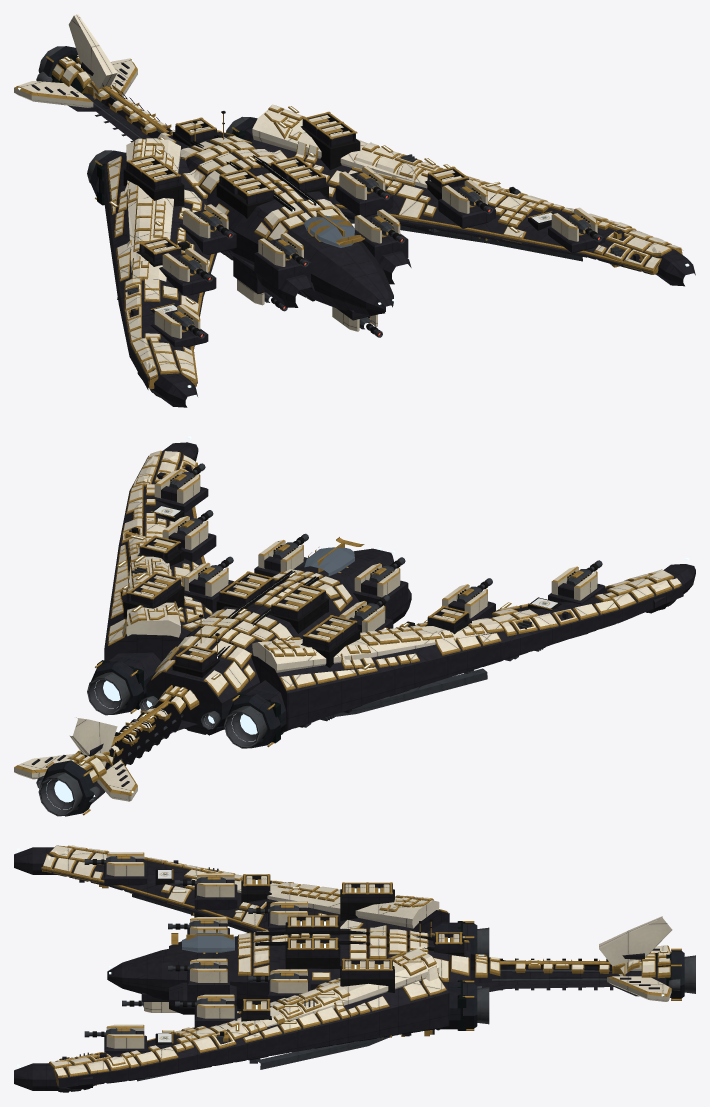
Rendered from europa-schiff7.glb.
The picture shows the model from 3 angles, top to bottom: view 1: azimuth 30°, elevation 25°; view 2: azimuth 150°, elevation 25°; view 3: azimuth 270°, elevation 25°; orthographic projection. The views are drawn at different scales.
Visible parts, largest first — view 1: Hull_LOD0; view 2: Hull_LOD0, EngineLight; view 3: Hull_LOD0.
Part boxes in pixels (bbox=[...]): Hull_LOD0: bbox=[14, 14, 695, 407]; Hull_LOD0: bbox=[14, 436, 695, 816]; EngineLight: bbox=[46, 680, 257, 809]; Hull_LOD0: bbox=[14, 845, 695, 1092].
Size of the model in its own units: 76.55 by 15.74 by 95.
Materials: 6 (4 with a texture image).
